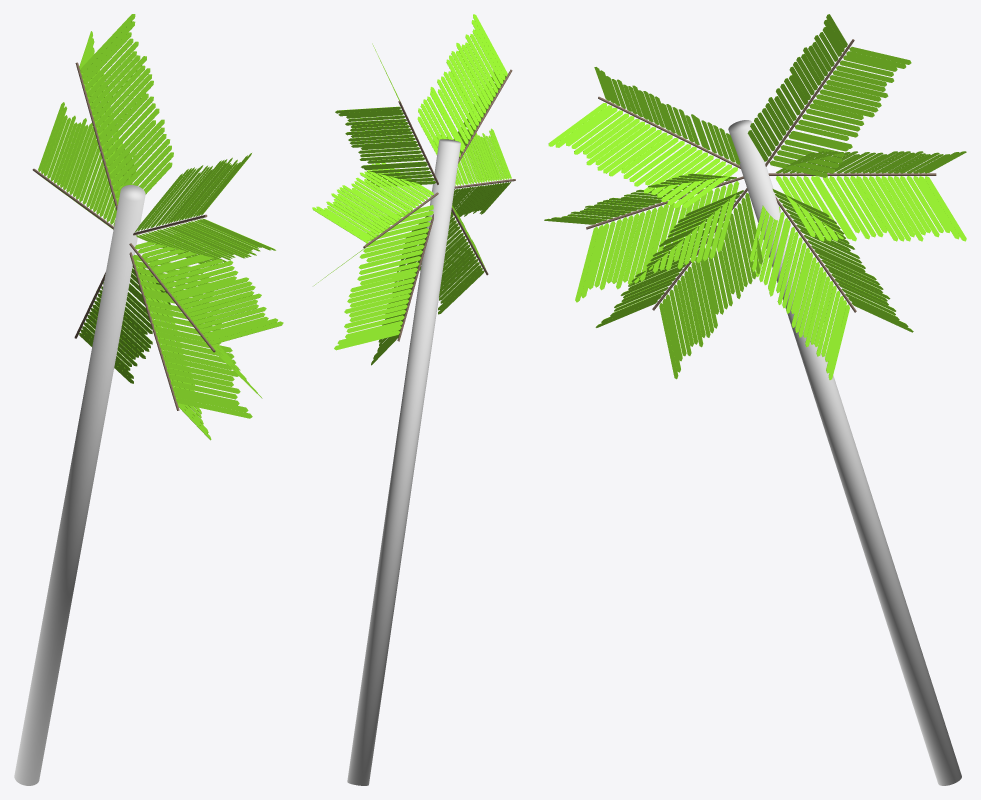
Rendered from IslandTree2.fbx.
The picture shows the model from 3 angles, left to right: view 1: azimuth 30°, elevation 25°; view 2: azimuth 150°, elevation 25°; view 3: azimuth 270°, elevation 25°; orthographic projection. The views are drawn at different scales.
Visible parts, largest first — view 1: TreeBase, FrondBase.002; view 2: TreeBase; view 3: TreeBase.
Boxes of the visible parts, x1,y1,x2,y2 form: TreeBase: (14, 185, 145, 785); FrondBase.002: (129, 252, 179, 410); TreeBase: (347, 139, 460, 785); TreeBase: (728, 120, 961, 785).
Bounding box in the file's own units: 284 × 3484 × 1688.
